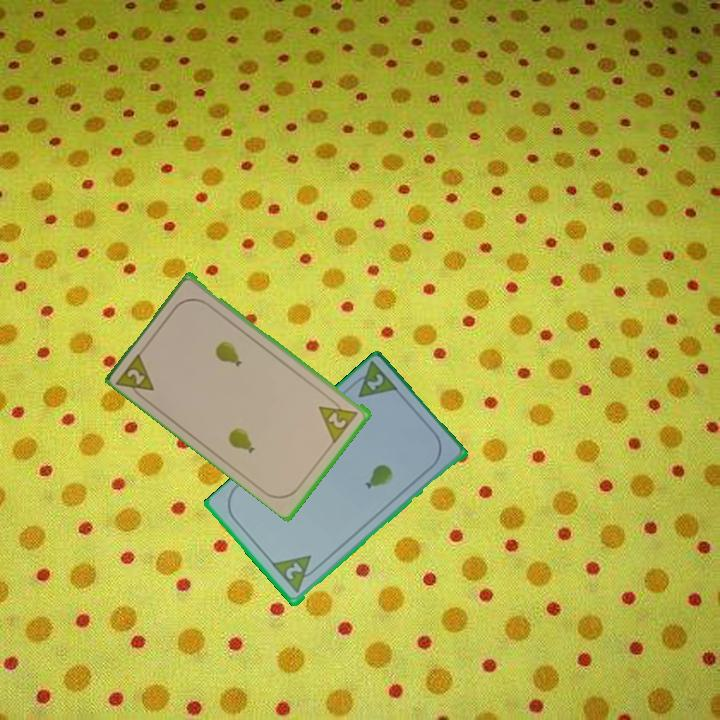2p: (113, 348, 158, 404), (269, 552, 323, 597), (363, 370, 387, 394), (325, 408, 350, 431)
